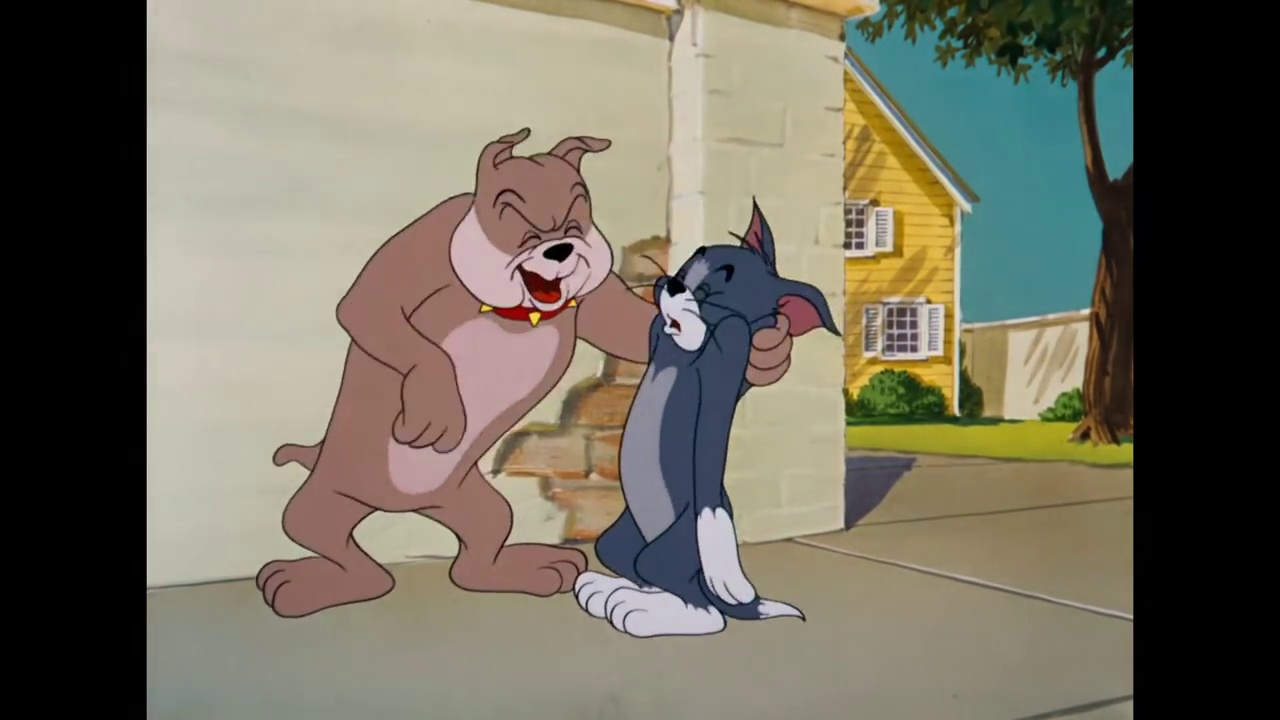spike: (444, 123, 623, 325)
tom: (642, 190, 812, 371)
